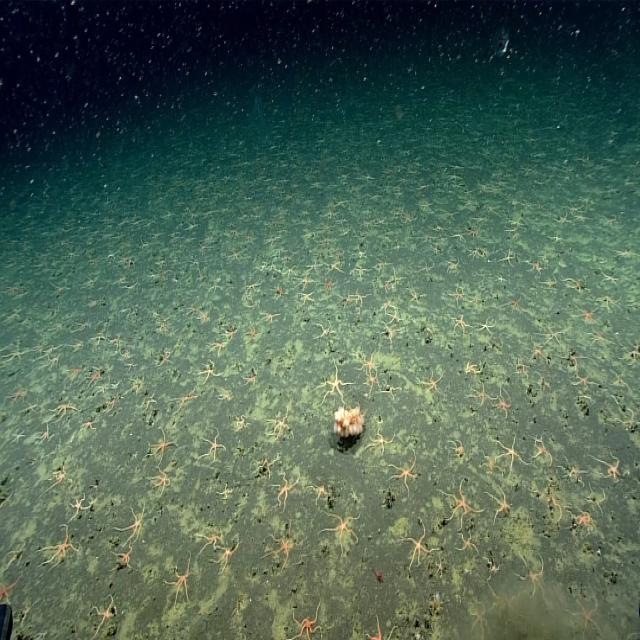brittle-stars: (565, 589, 599, 636), (44, 526, 80, 566), (266, 528, 300, 570), (443, 482, 477, 524), (324, 512, 360, 550), (516, 551, 545, 597), (290, 603, 323, 640), (322, 362, 351, 404), (404, 526, 432, 566), (390, 452, 418, 491), (496, 436, 525, 473), (272, 472, 300, 508), (534, 490, 565, 522), (593, 451, 623, 483), (167, 560, 191, 600), (120, 506, 147, 541), (92, 596, 118, 632), (490, 586, 518, 618), (40, 463, 67, 496), (150, 432, 177, 463), (213, 540, 239, 572), (488, 488, 512, 519), (560, 455, 584, 486), (0, 574, 22, 606), (202, 432, 225, 462), (269, 410, 292, 440), (198, 525, 223, 552), (172, 386, 197, 412), (574, 507, 596, 536), (364, 618, 393, 640), (150, 466, 172, 494), (68, 492, 90, 520), (471, 604, 490, 636), (586, 486, 606, 516), (617, 406, 640, 432), (370, 429, 392, 456), (532, 438, 552, 467), (3, 343, 28, 366), (112, 544, 134, 570), (540, 323, 564, 346), (53, 397, 78, 419), (3, 544, 25, 569), (198, 360, 222, 382), (564, 274, 588, 296), (252, 456, 278, 476), (493, 390, 512, 417), (422, 370, 443, 394), (562, 346, 586, 367), (471, 383, 491, 408), (587, 329, 608, 352), (18, 598, 35, 625), (36, 344, 61, 362), (456, 532, 476, 554), (574, 305, 596, 325), (7, 384, 27, 406), (528, 341, 547, 364), (378, 326, 399, 346), (310, 482, 331, 502), (572, 373, 593, 392), (625, 340, 640, 366), (503, 295, 522, 315), (86, 368, 104, 389), (599, 293, 620, 311), (359, 350, 376, 372), (453, 314, 470, 336), (533, 372, 550, 394), (478, 317, 497, 336), (463, 358, 482, 377), (208, 339, 228, 357), (484, 452, 499, 476), (9, 427, 27, 447), (448, 285, 466, 304), (65, 365, 83, 384), (315, 320, 334, 338), (125, 380, 144, 398), (488, 554, 502, 578), (611, 369, 629, 387), (70, 317, 89, 334), (158, 349, 174, 369), (410, 284, 426, 304), (351, 264, 369, 281), (352, 287, 369, 305), (418, 261, 435, 279), (245, 276, 262, 294), (51, 317, 68, 335), (46, 353, 64, 370), (139, 396, 157, 413), (363, 373, 379, 392), (235, 412, 250, 432), (240, 369, 257, 386), (376, 256, 392, 274), (602, 272, 620, 288), (528, 259, 543, 278), (109, 395, 123, 415), (36, 424, 50, 444), (50, 282, 70, 296), (299, 288, 316, 304), (466, 291, 482, 308), (263, 310, 281, 325), (84, 416, 98, 435), (242, 326, 256, 345), (500, 248, 514, 267), (79, 276, 98, 290), (451, 440, 464, 460), (299, 274, 315, 290), (90, 332, 106, 348), (541, 276, 557, 292), (388, 271, 404, 287), (321, 277, 336, 294), (273, 283, 288, 300), (387, 310, 402, 327), (225, 324, 240, 341), (21, 401, 38, 416), (384, 381, 399, 398), (326, 261, 342, 276), (305, 260, 320, 276), (198, 308, 212, 325), (442, 207, 457, 222), (446, 260, 460, 276), (381, 298, 395, 314), (94, 382, 108, 398), (218, 485, 232, 501), (437, 556, 447, 578), (342, 290, 354, 308), (464, 227, 478, 242), (471, 212, 486, 226), (230, 248, 243, 264), (282, 265, 296, 279), (420, 200, 434, 214), (112, 335, 125, 350), (186, 304, 198, 320), (110, 276, 127, 287), (516, 365, 530, 378), (69, 341, 83, 354), (487, 342, 502, 354), (159, 318, 170, 334), (495, 272, 507, 286), (28, 341, 42, 353), (126, 358, 138, 371), (320, 235, 332, 248), (125, 282, 138, 294), (121, 348, 132, 362), (556, 213, 570, 224), (634, 454, 640, 478), (574, 214, 592, 222), (219, 393, 231, 402), (109, 383, 119, 390), (381, 283, 389, 291)
